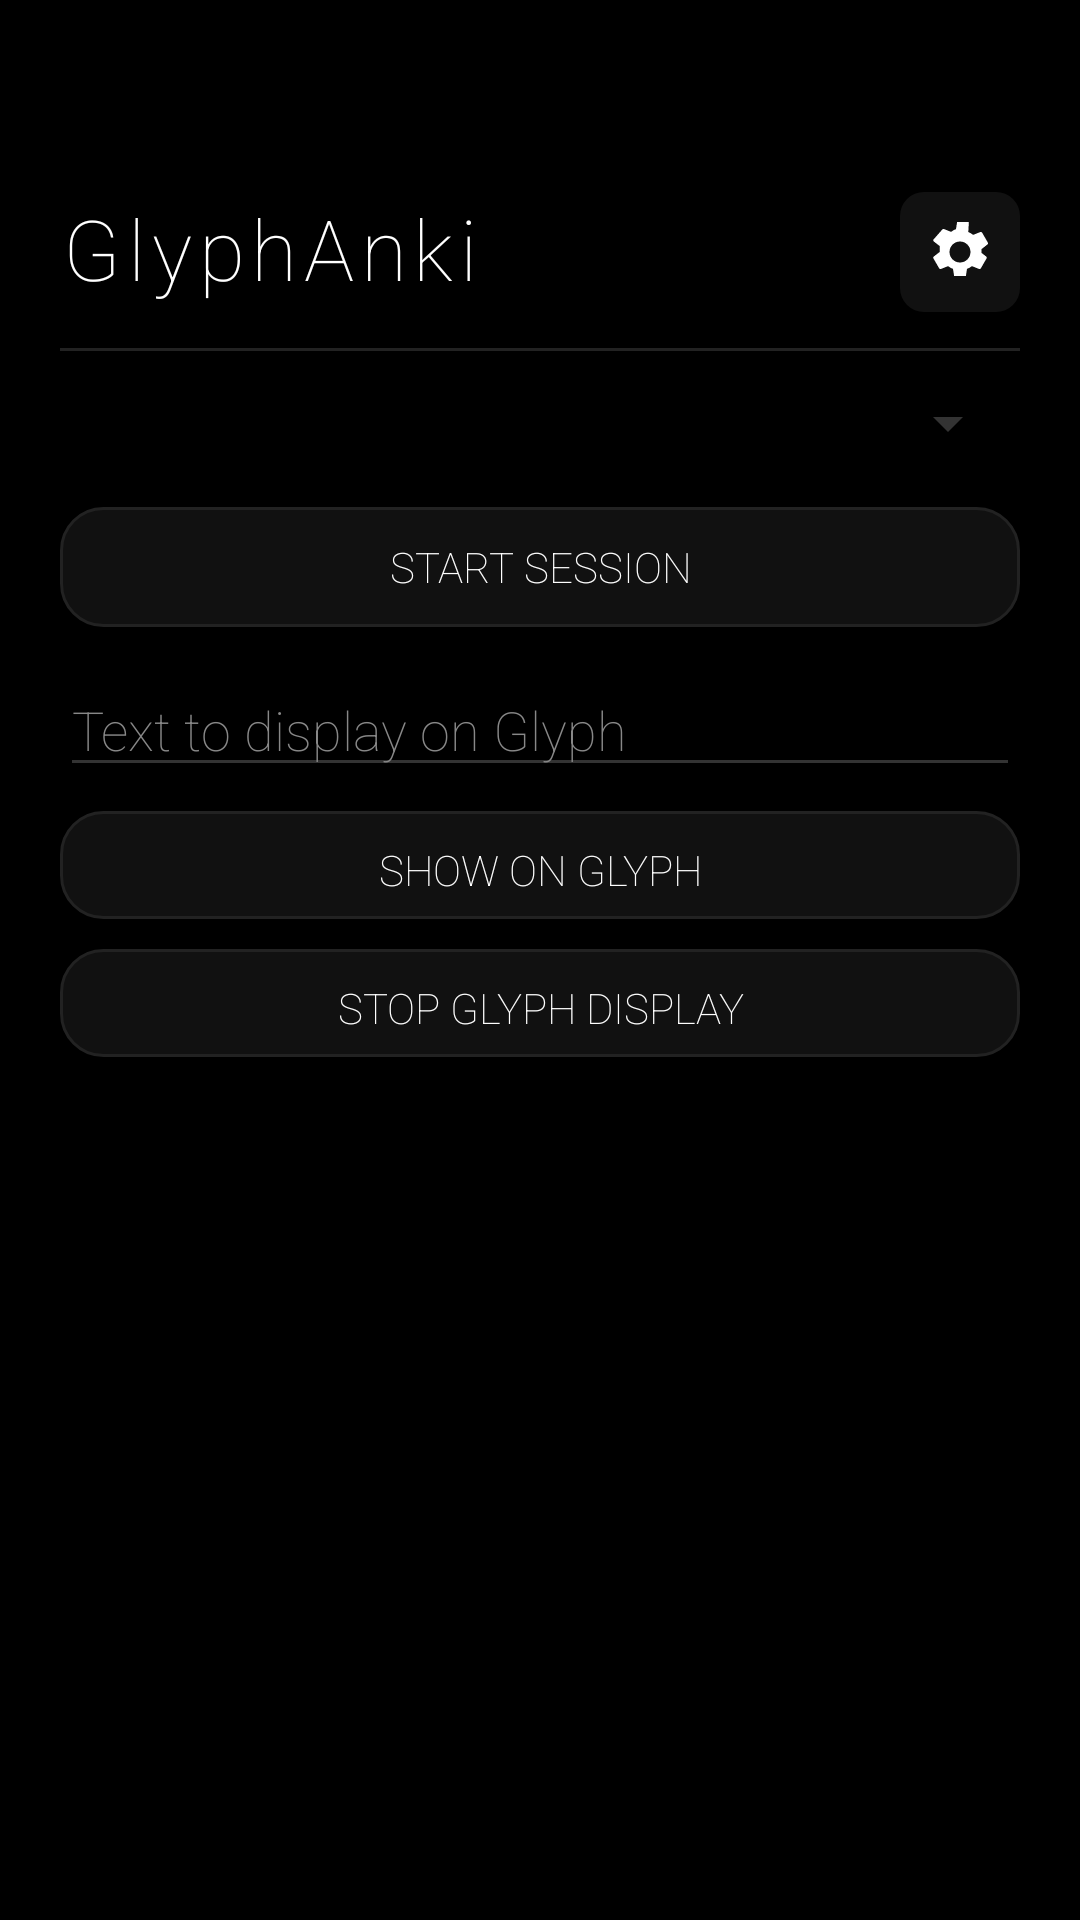

Icons on this 1080 × 1920 Android screen, each with the point to tap as point (x, y):
Settings: point (960, 249)
